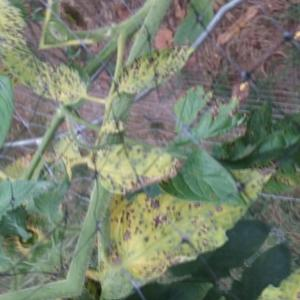Tomato Septoria leaf spot: (90, 110, 291, 300), (74, 94, 202, 221), (107, 14, 209, 114), (24, 43, 105, 124)
